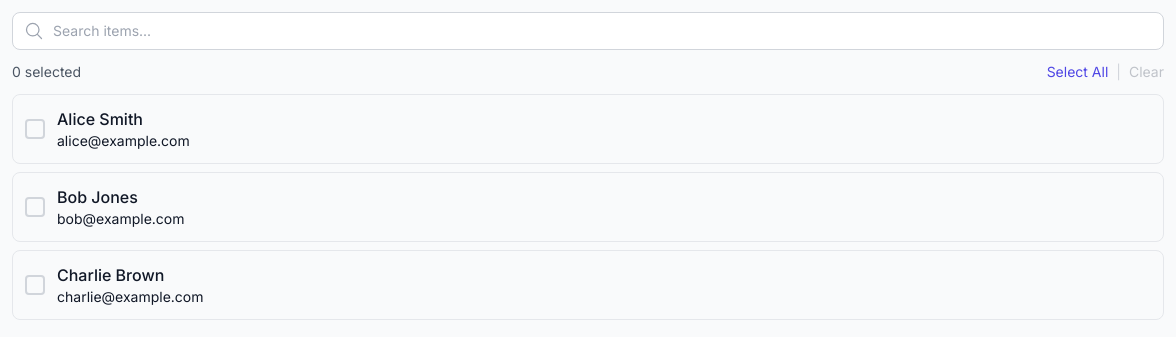
Test case: ScrollableListPicker › filters items via search input
Type "alice" into the search field with placeholder "Search items...".
click(588, 31); type("alice")  # box [12,12,1164,50]
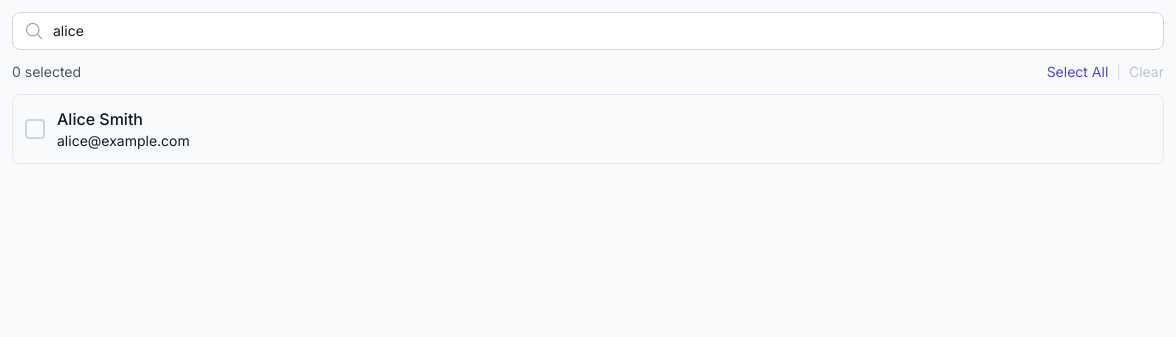
Expected: the text "Alice Smith" is shown, [57,109,143,129]
Now the button "Bob Jones" is gone
Now the button "Charlie Brown" is gone
